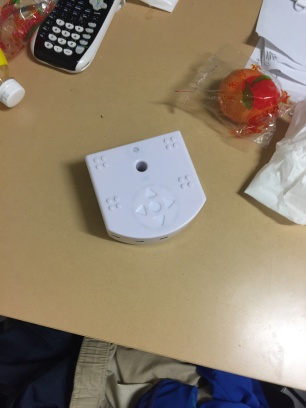thymio: (83, 128, 206, 243)
